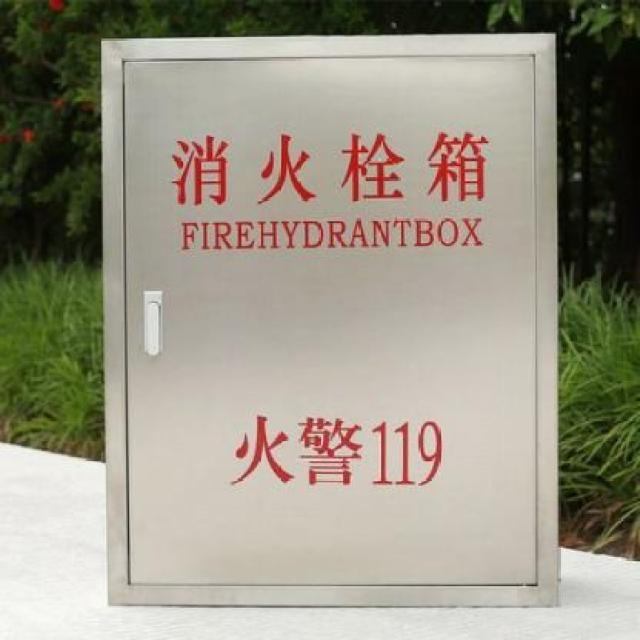firehydrant: (97, 31, 562, 614)
